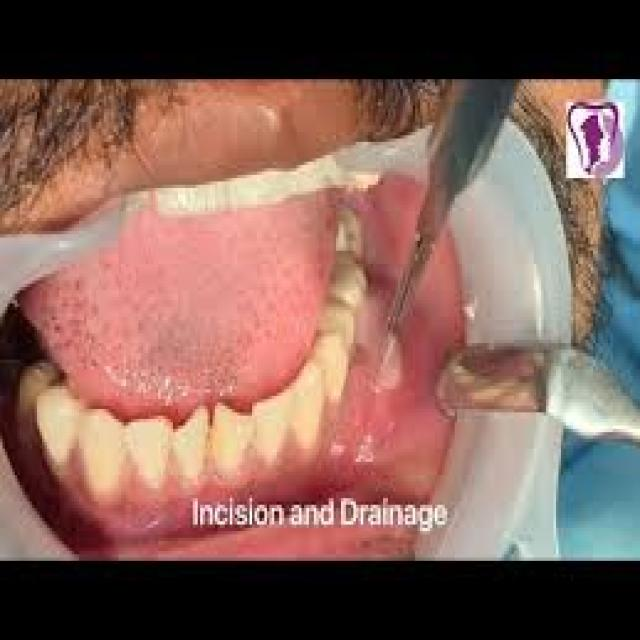abscess: (369, 330, 416, 416)
